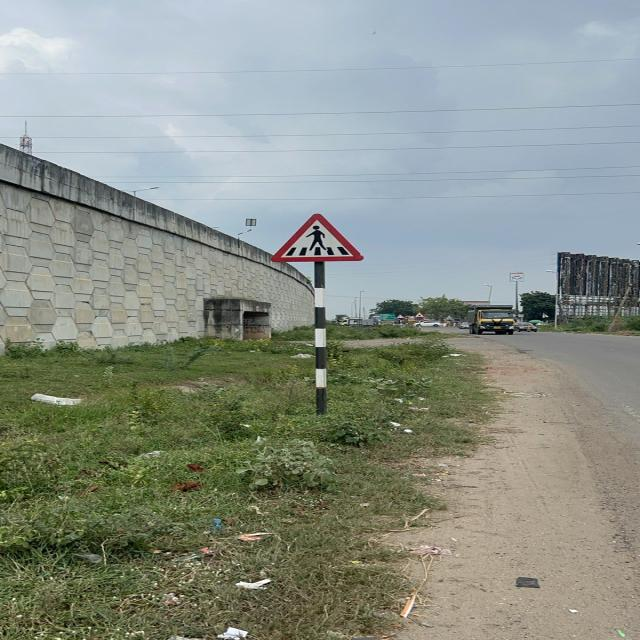Pedestrain_crossing: (271, 213, 365, 260)
